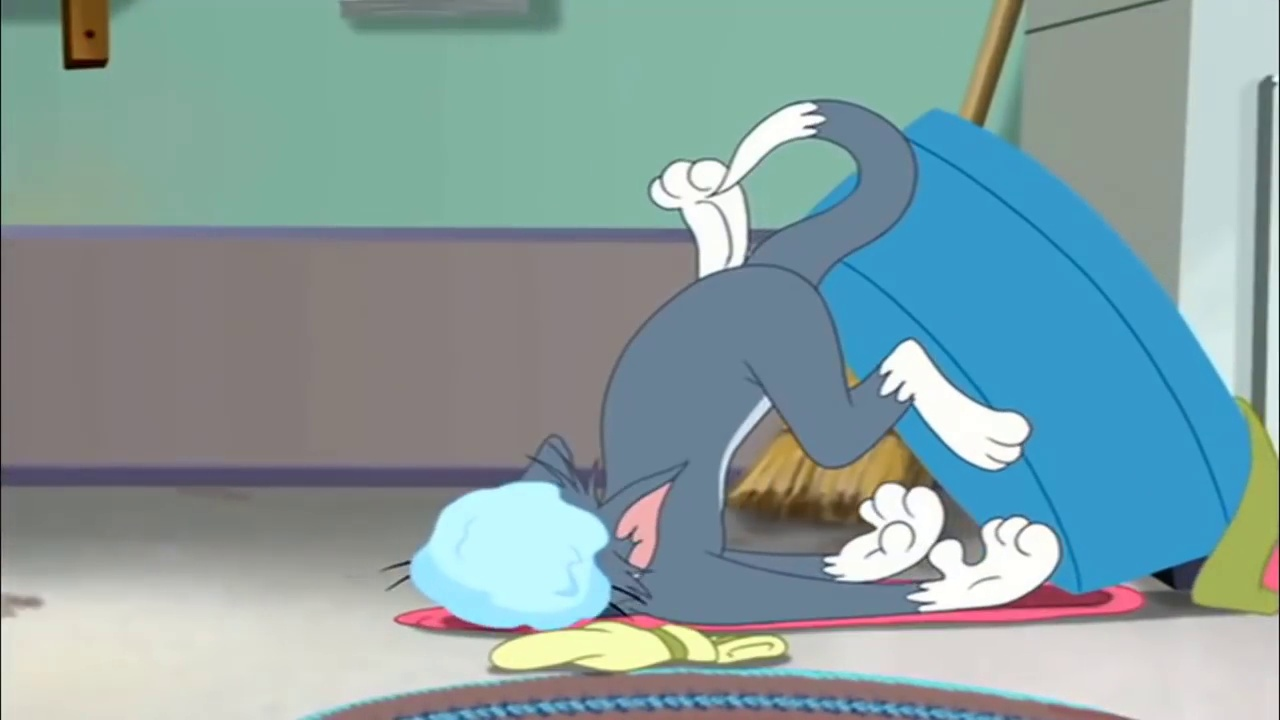face: (464, 477, 654, 623)
